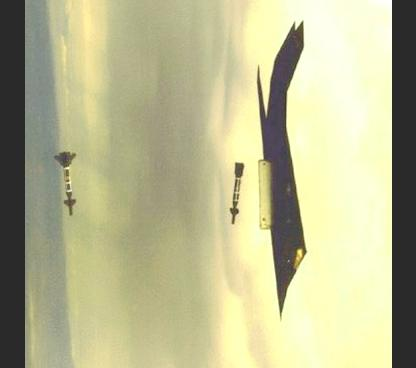E7: (256, 19, 306, 321)
